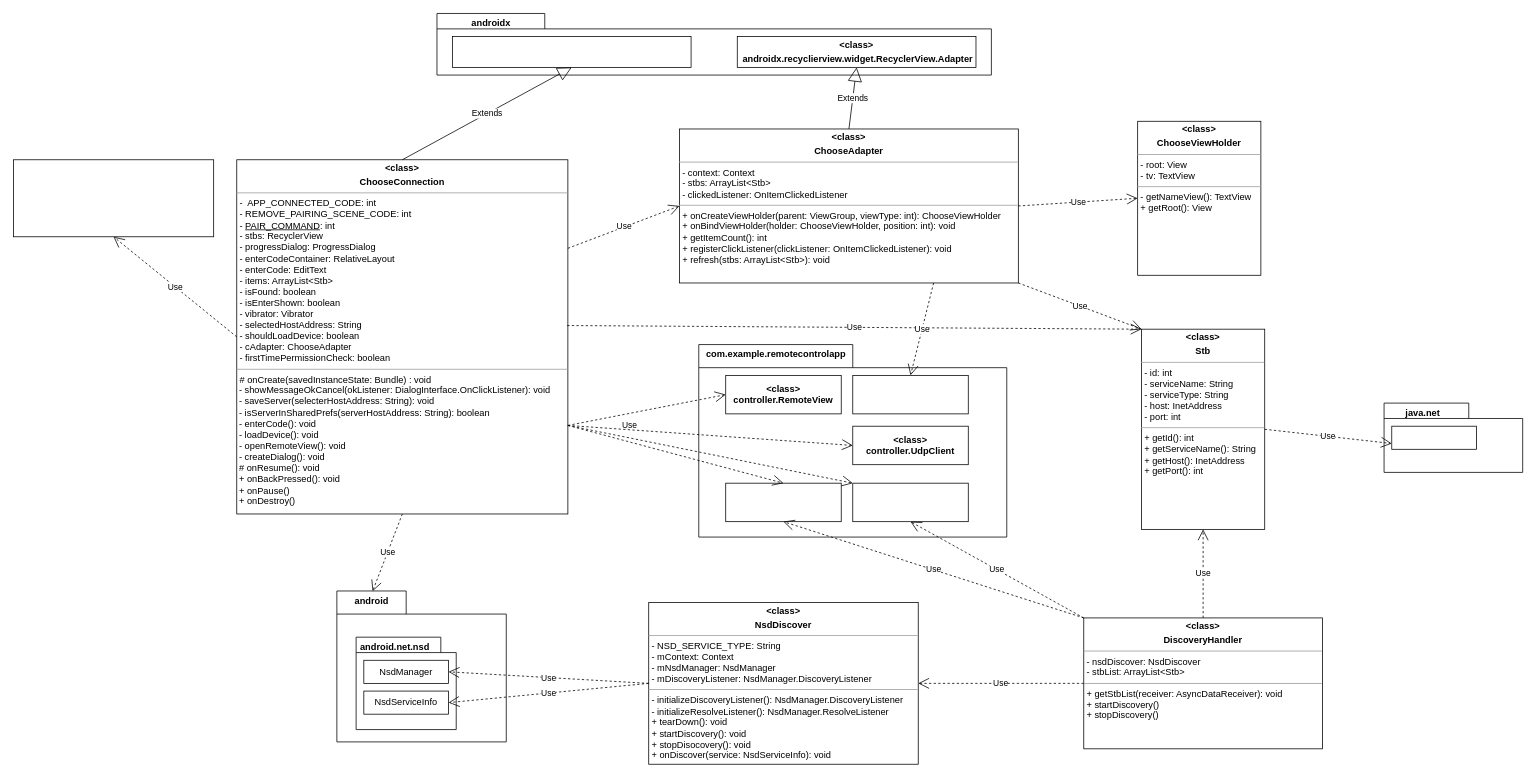
Image size: 1536x778. Some labels were removed from this diagram. The shapes that lost their labels are listed below. From the top down, each one's centre as x and y in pixels, then its label:
the point at 571,51: <class> androidx.appcompat.app.AppCompatActivity
the point at 113,198: <class> ConnectToStb # doInBackground(objects: Object[]): Object
the point at 910,394: <interface> OnItemClickedListener
the point at 1433,437: InetAddress
the point at 783,502: <interface> AsyncDataReceiver
the point at 910,502: <class> Singleton
